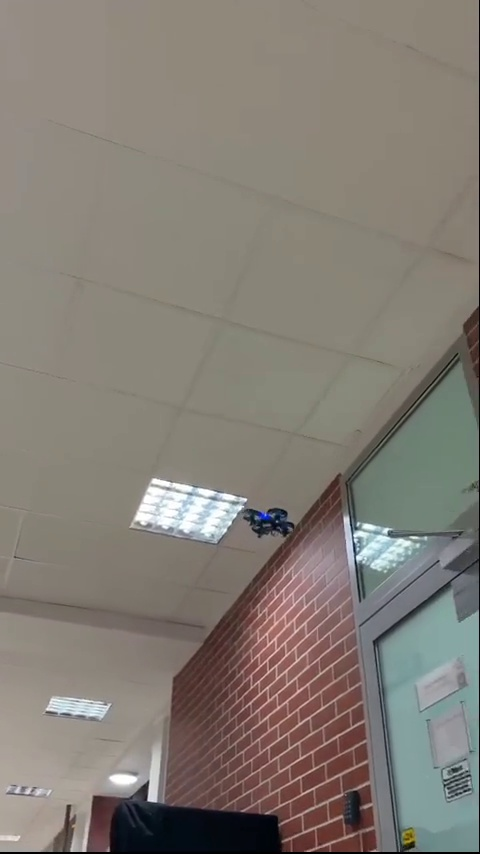drone: (242, 505, 294, 545)
